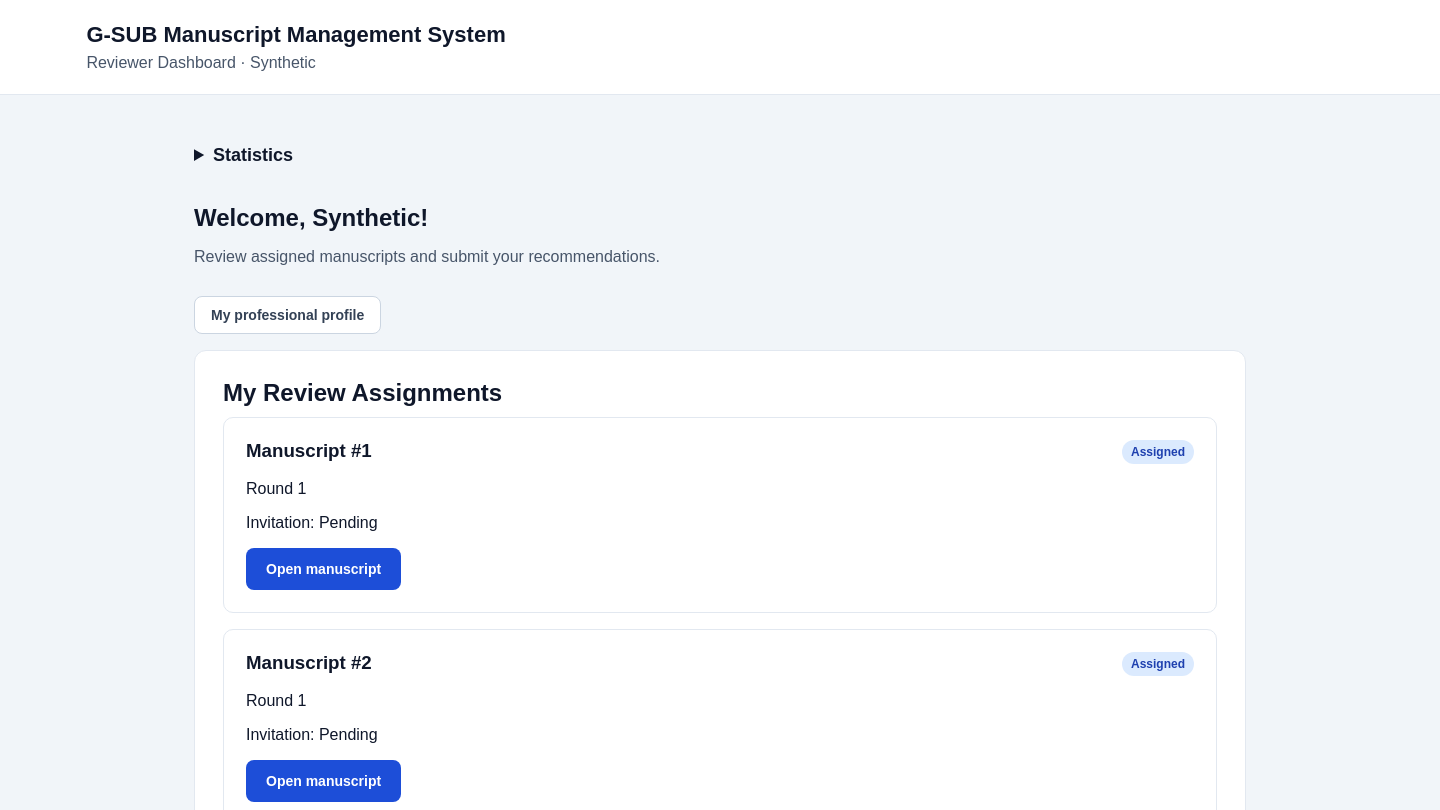
Scenario: discards a late task after switching assignments
Click the button "Open manuscript" below "Manuscript #1": (324, 569) 246,548 -> 401,590
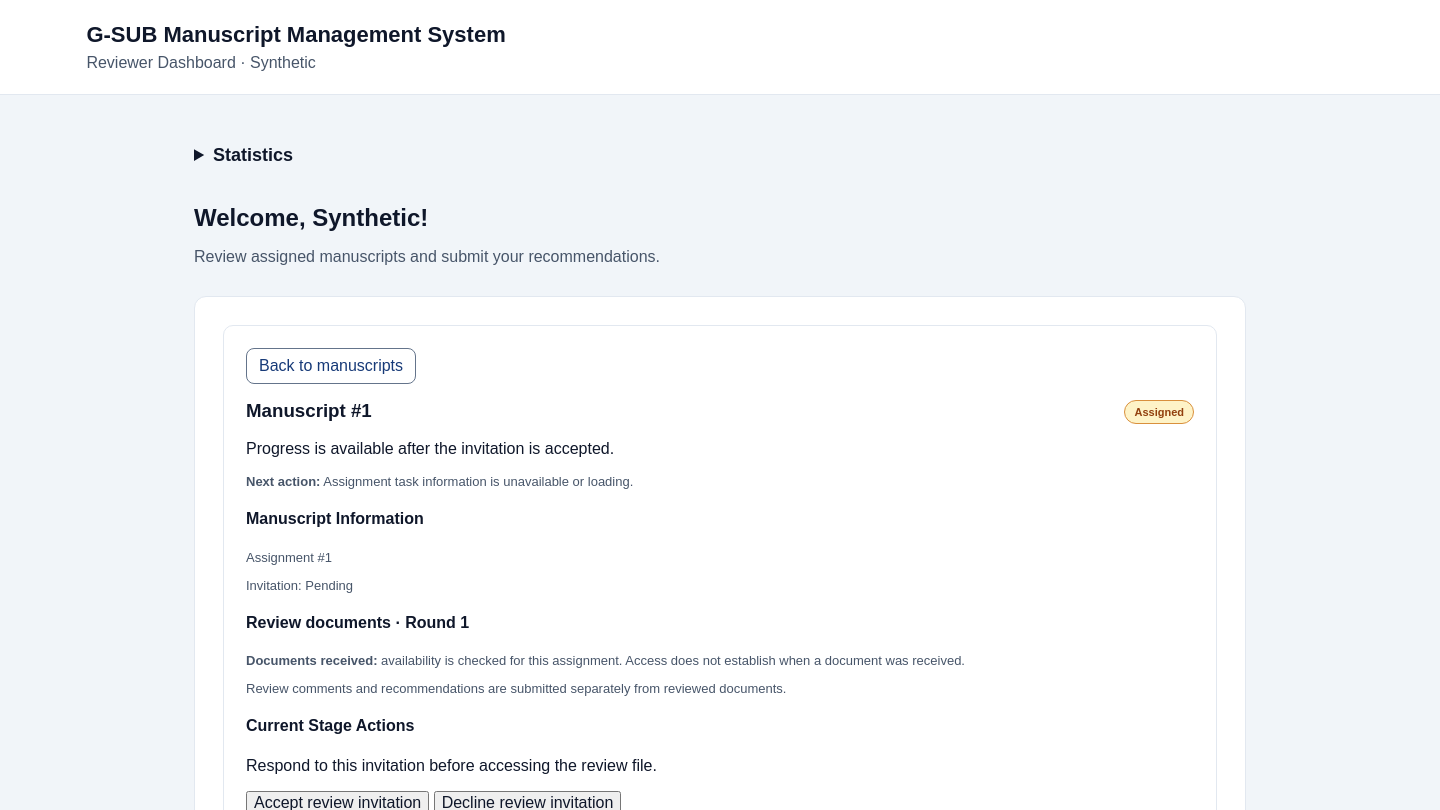
Click the button "Back to manuscripts": (331, 366) 246,348 -> 416,384
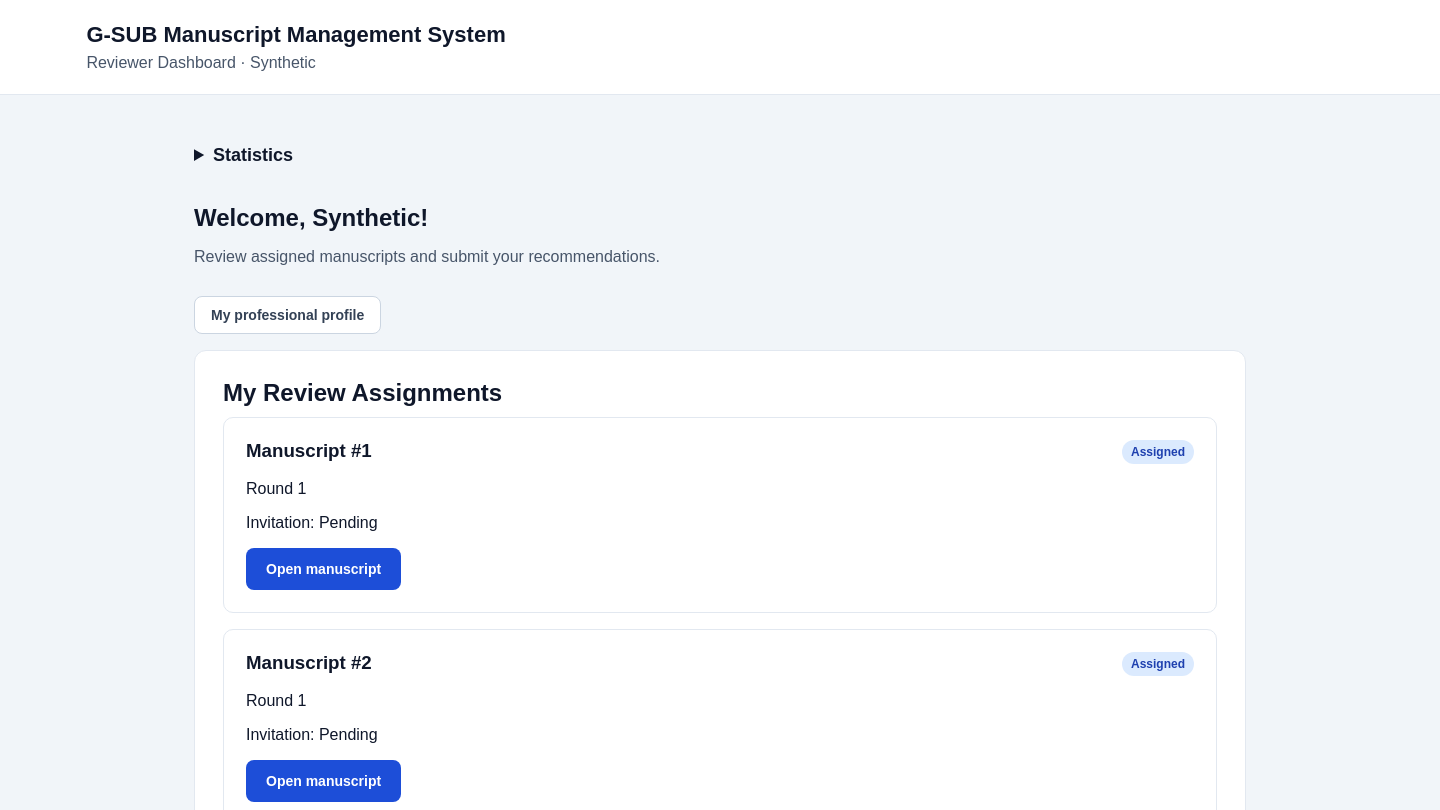
Click the button "Open manuscript" below "Manuscript #2": (324, 781) 246,760 -> 401,802
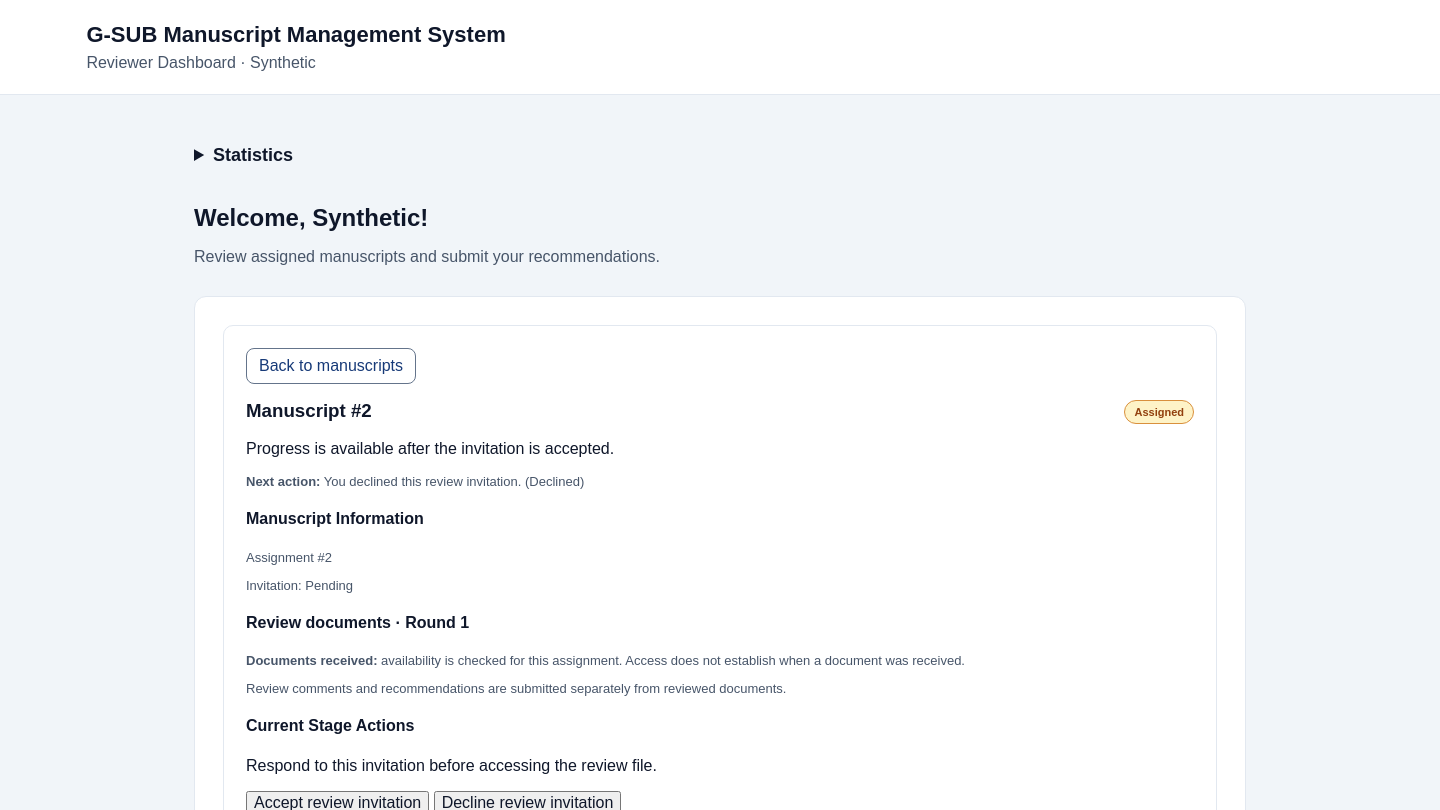
Now the text "Next action: You declined this review invitation. (Declined)" is shown, box 246,474 -> 584,489
